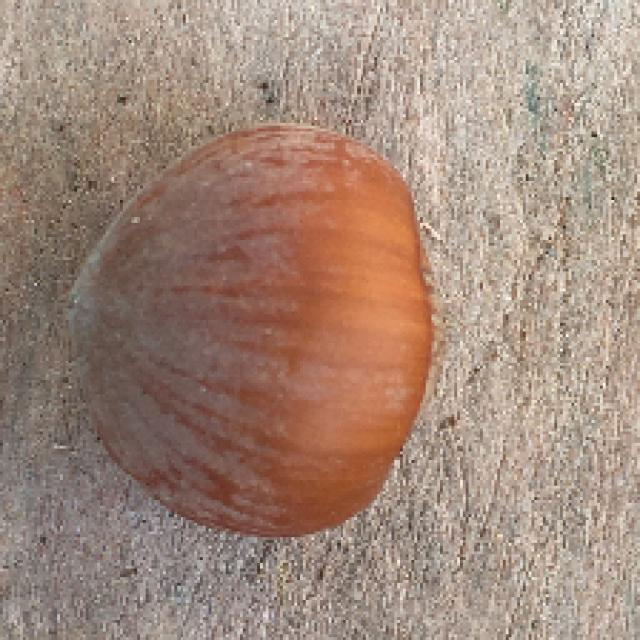QualityHazelnut: (64, 123, 446, 544)
